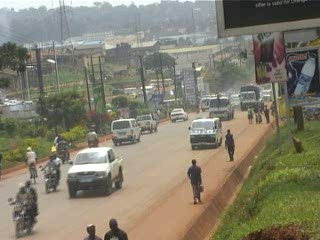Car: (169, 105, 189, 124)
Motorcycle: (7, 175, 41, 239), (37, 152, 62, 195), (55, 132, 75, 163), (85, 126, 100, 147)
